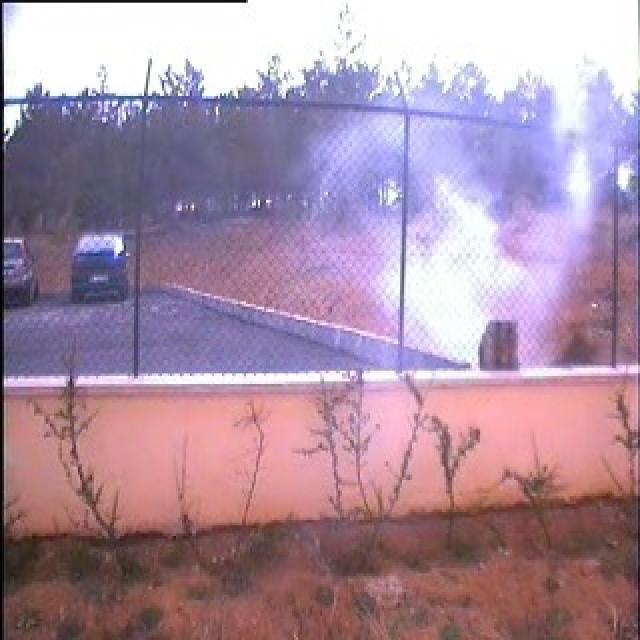Smoke: (377, 174, 525, 364)
